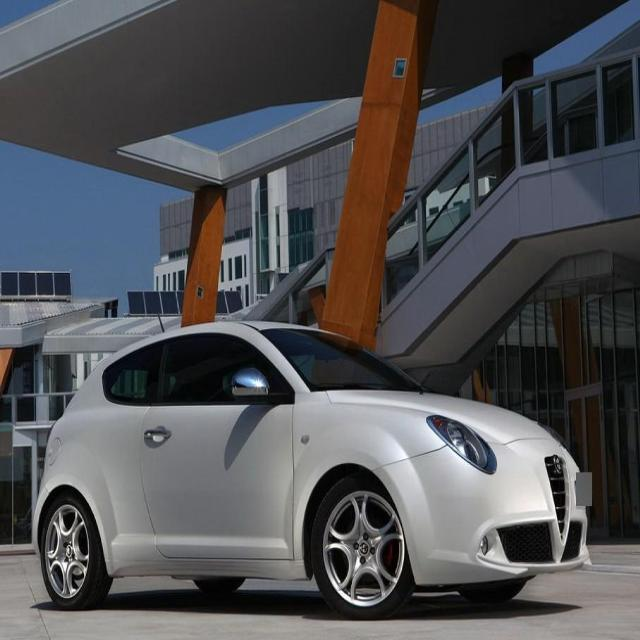front_bumper: (371, 433, 592, 594)
front_glass: (260, 327, 427, 397)
front_right_side_door: (138, 330, 298, 566)
front_right_side_light: (424, 410, 498, 476)
front_right_side_mirror: (228, 364, 285, 403)
wheel: (310, 474, 415, 616), (40, 493, 112, 612)
